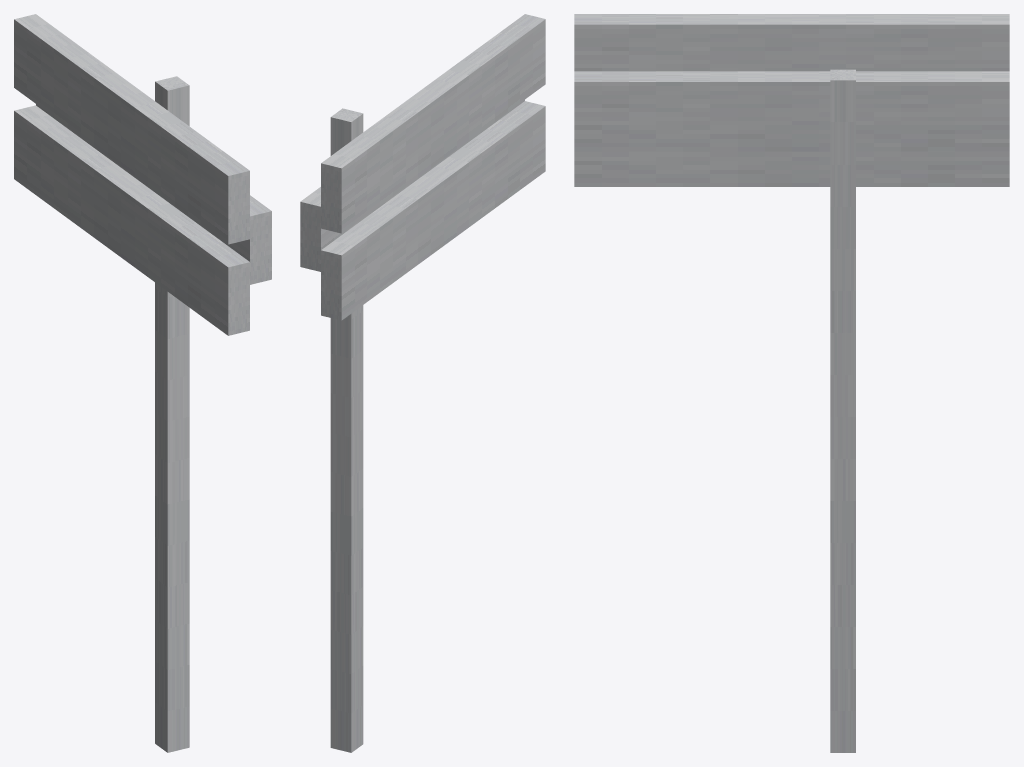
Rendered from guardrail.obj.
The picture shows the model from 3 angles, left to right: view 1: azimuth 30°, elevation 25°; view 2: azimuth 150°, elevation 25°; view 3: azimuth 270°, elevation 25°; orthographic projection. The views are drawn at different scales.
Visible parts, largest first — view 1: cube; view 2: cube; view 3: cube.
Part boxes in pixels (bbox=[...]): cube: bbox=[14, 14, 271, 752]; cube: bbox=[300, 14, 545, 752]; cube: bbox=[574, 14, 1009, 752].
Size of the model in its own units: 0.25 by 1.88 by 1.06.
Materials: 1 (1 with a texture image).
